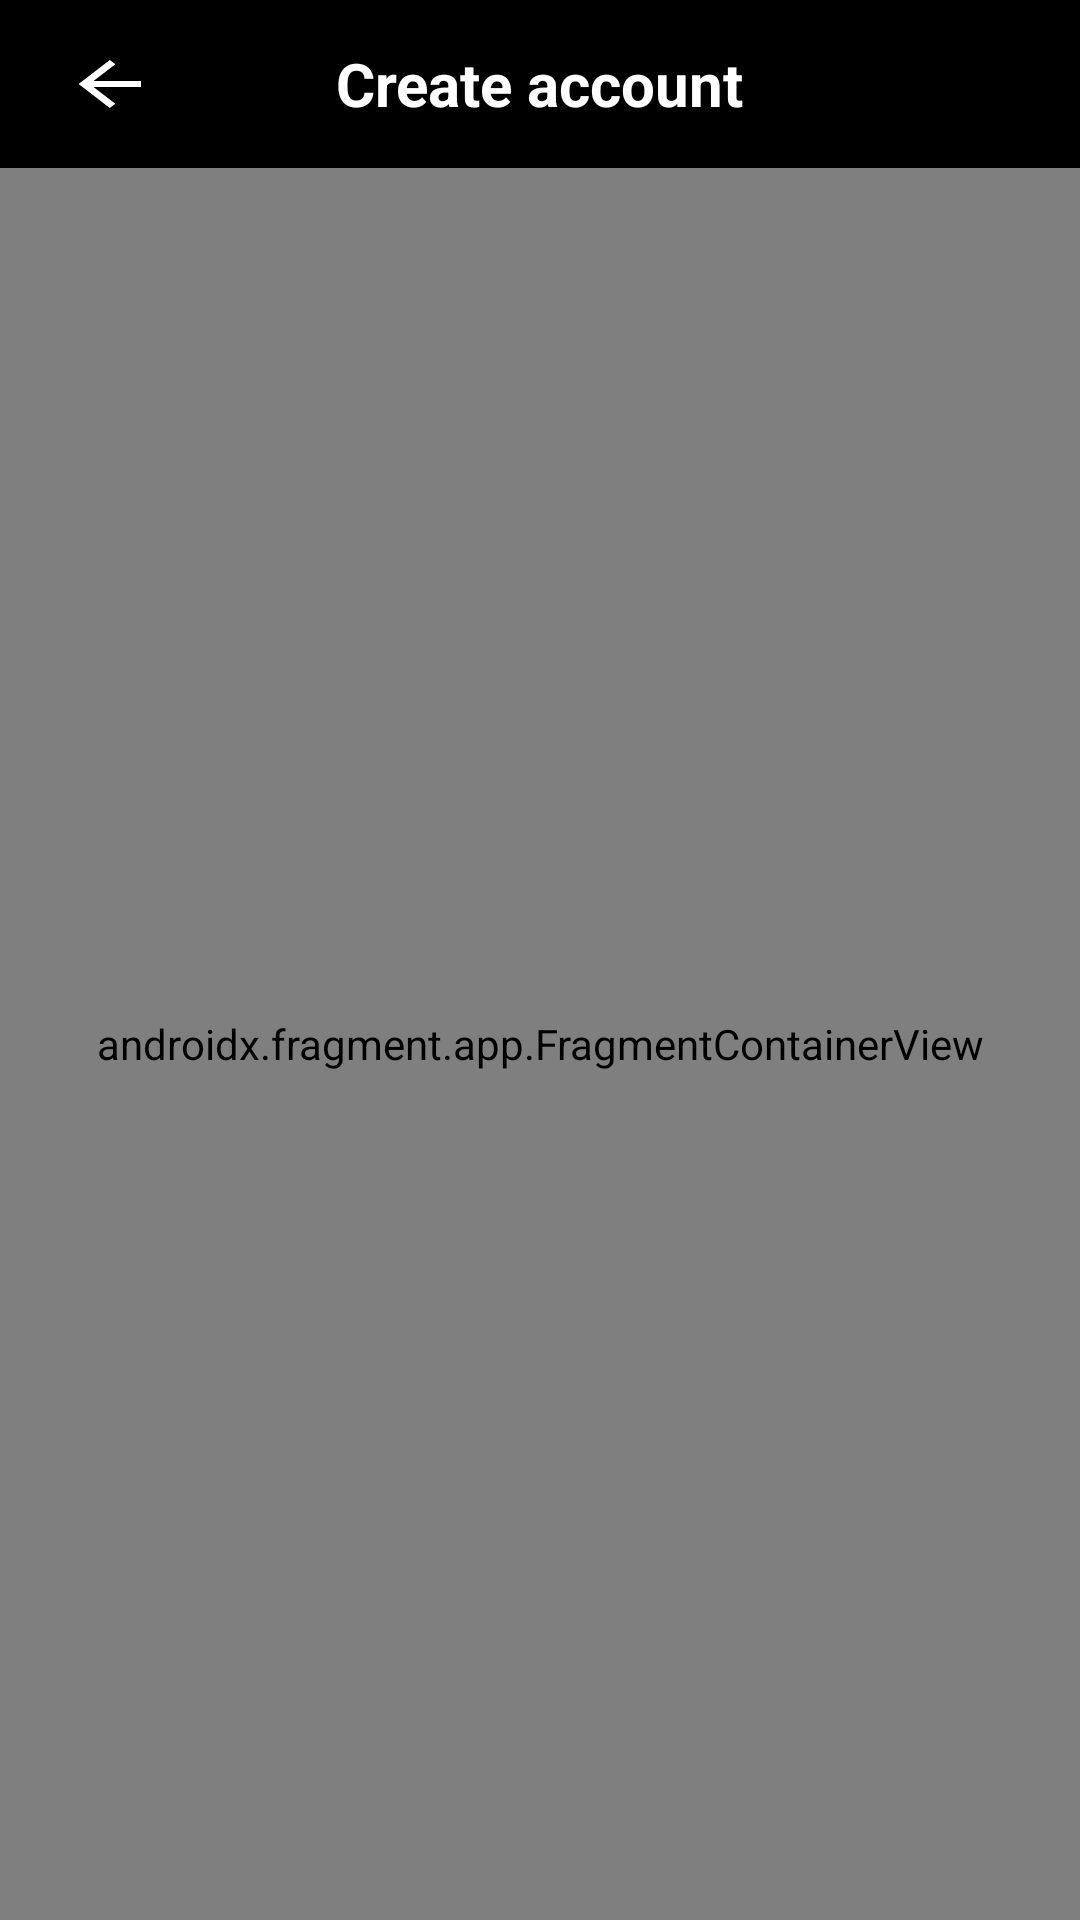

Icons on this 1080×1920 Android screen, each with its box as (x1, y1, x2, y2):
back arrow: (79, 60, 141, 108)
